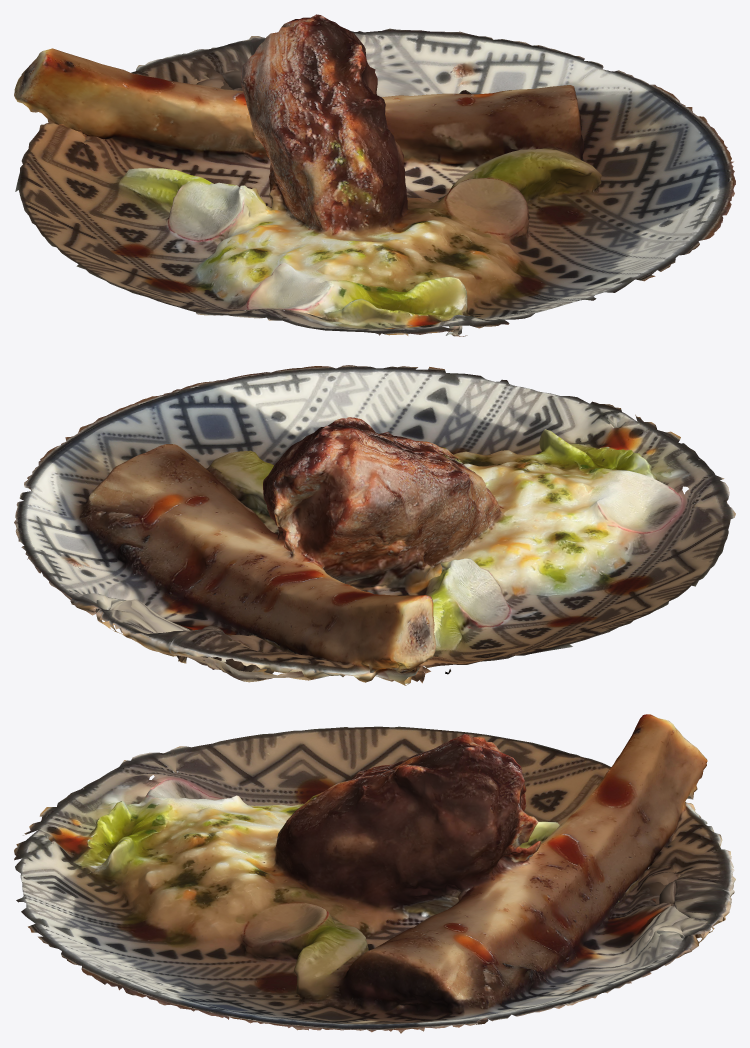
Rendered from danakaburga.glb.
3 renders of one model, top to bottom at view 1: azimuth 30°, elevation 25°; view 2: azimuth 150°, elevation 25°; view 3: azimuth 270°, elevation 25°, orthographic.
Visible parts, largest first — view 1: danakaburga v3; view 2: danakaburga v3; view 3: danakaburga v3.
Boxes of the visible parts, x1,y1,x2,y2 form: danakaburga v3: (14, 14, 735, 336); danakaburga v3: (14, 365, 735, 685); danakaburga v3: (14, 714, 735, 1033).
Bounding box in the file's own units: 0.9799 × 0.2681 × 0.9772.
Materials: 1 (1 with a texture image).
